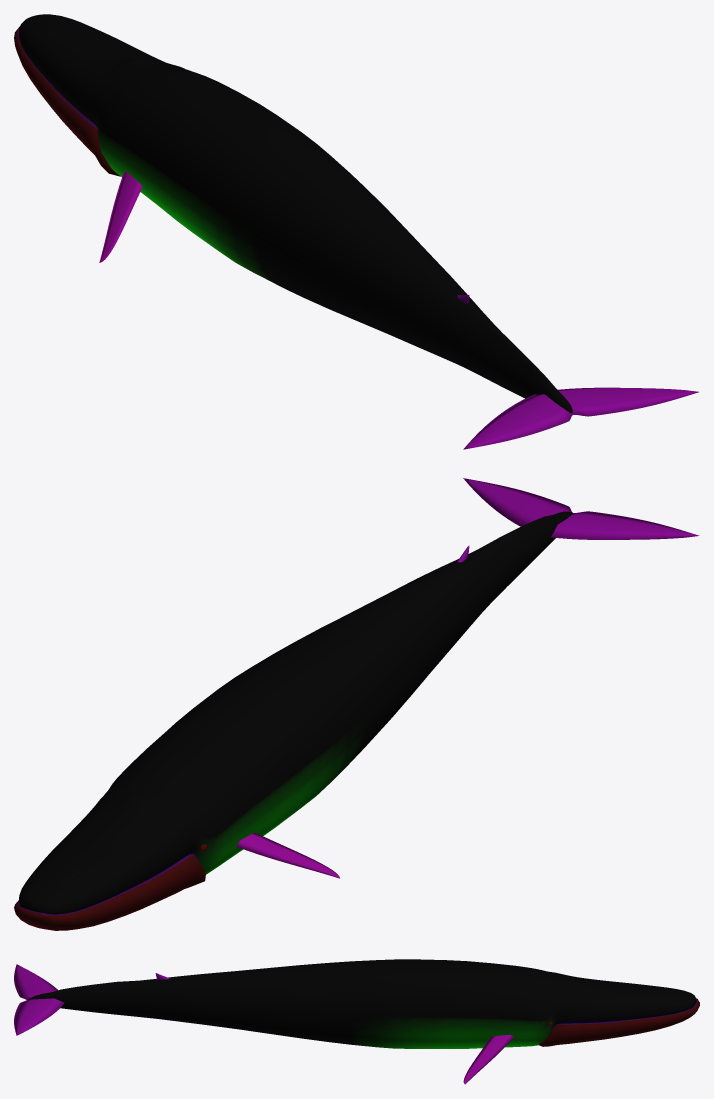
File: blue_whale_game.glb
3 renders of one model, top to bottom at view 1: azimuth 30°, elevation 25°; view 2: azimuth 150°, elevation 25°; view 3: azimuth 270°, elevation 25°, orthographic. The views are drawn at different scales.
Parts seen in each view (by area): view 1: blue_whale_game; view 2: blue_whale_game; view 3: blue_whale_game.
Part boxes in pixels (x1,y1,x2,y2): blue_whale_game: [14, 14, 698, 449]; blue_whale_game: [14, 478, 699, 930]; blue_whale_game: [14, 959, 699, 1084].
Size of the model in its own units: 6.35 by 3.4 by 25.27.
